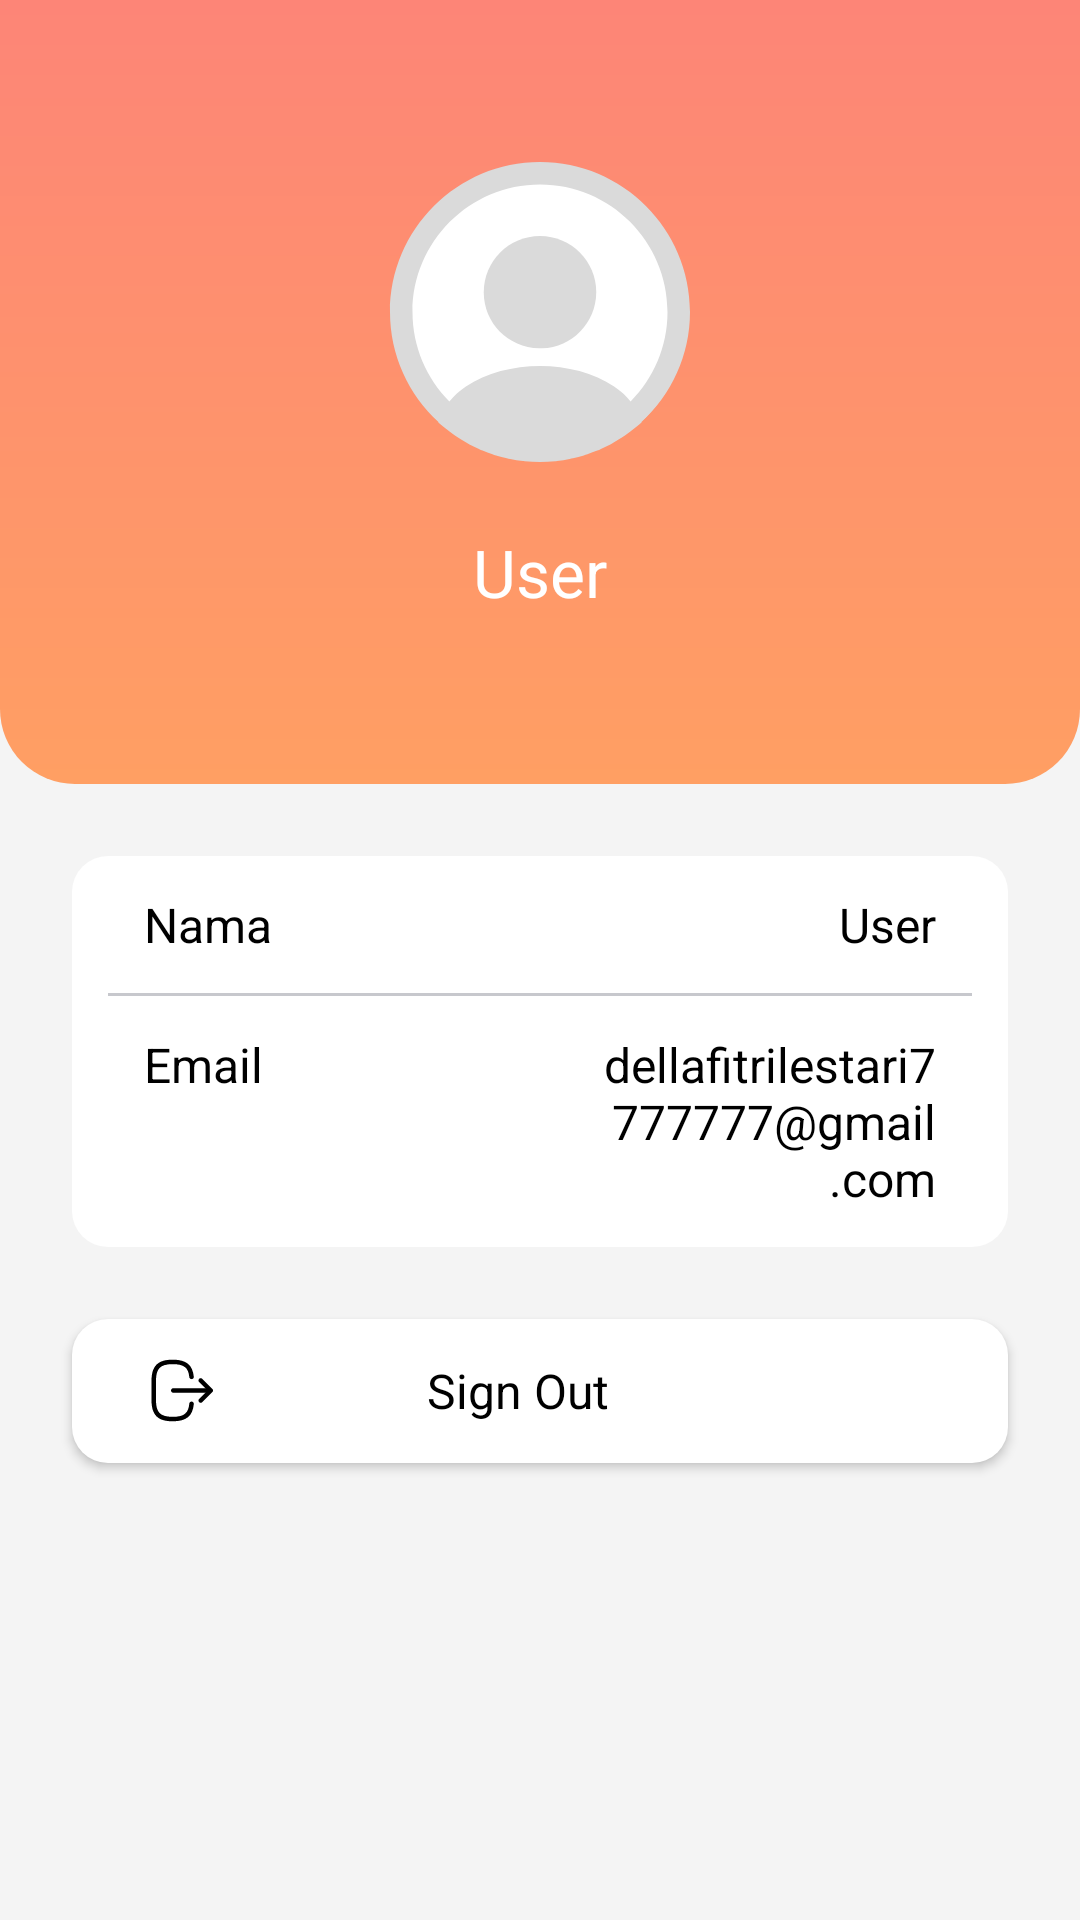

Where icons sit on this 1080 × 1920 app screen, as (x1, y1, x2, y2):
profil: (390, 162, 690, 462)
